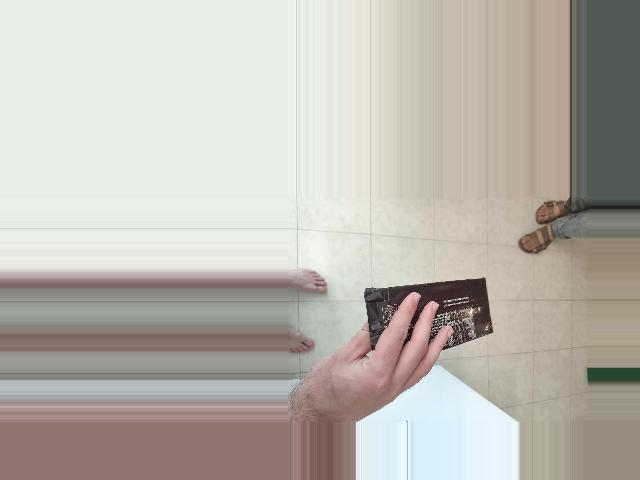chocolate: (347, 275, 496, 374)
